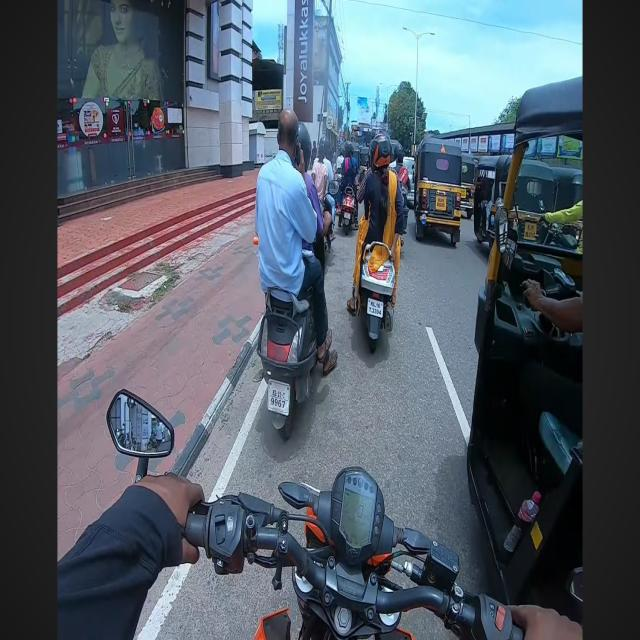Numberplate: (268, 374, 294, 415), (365, 297, 390, 327)
bike: (237, 90, 346, 450), (364, 133, 399, 360)
helmet: (370, 130, 395, 180)
no_helmet: (270, 94, 313, 156)
